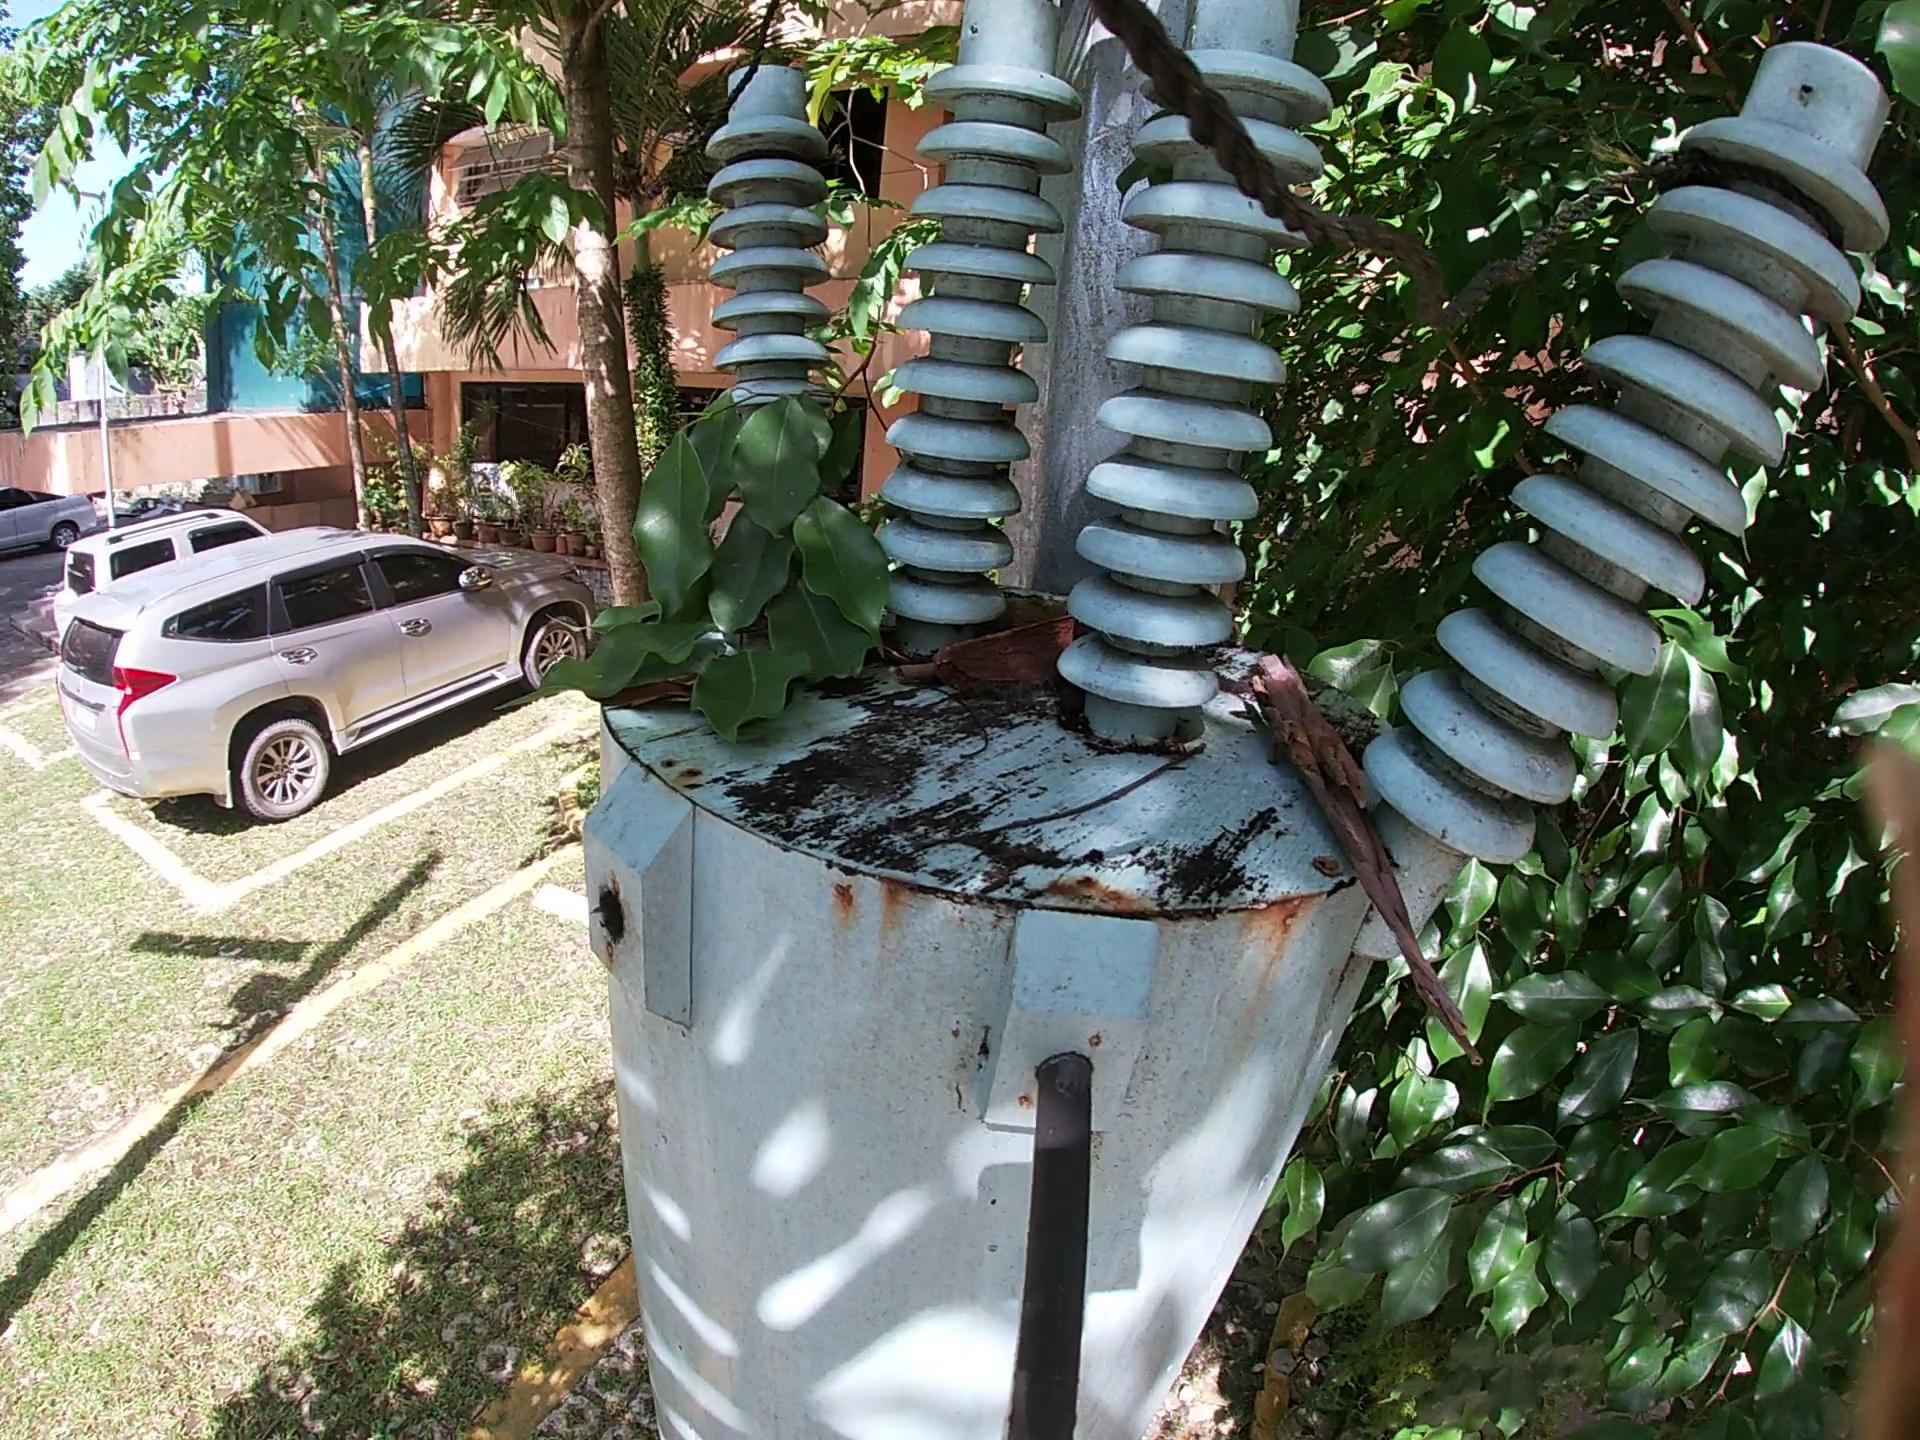branch with leaves: (535, 321, 884, 750)
mahogany fruit: (940, 625, 1089, 697), (600, 666, 708, 718)
tree branch: (1229, 641, 1513, 1069), (946, 738, 1215, 856), (942, 700, 990, 782), (998, 579, 1076, 622), (877, 658, 934, 687)
